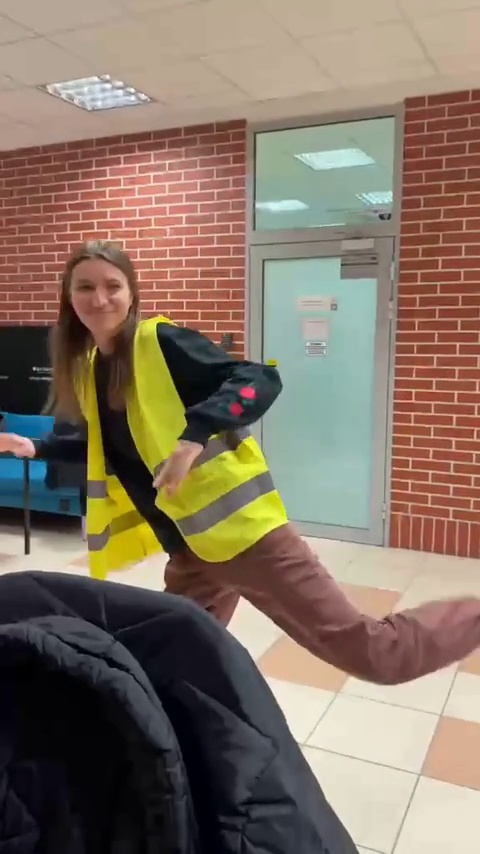vest: (50, 229, 428, 692)
